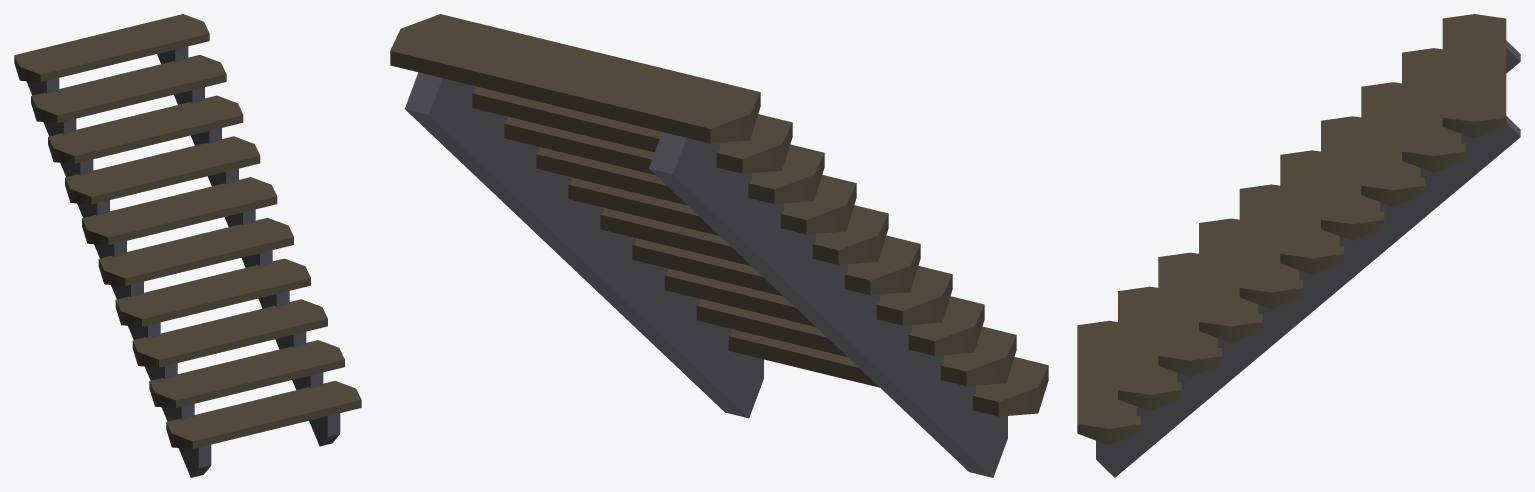
The model's file is LPSciFi_LongSingleStairs.fbx.
The picture shows the model from 3 angles, left to right: view 1: azimuth 30°, elevation 25°; view 2: azimuth 150°, elevation 25°; view 3: azimuth 270°, elevation 25°; orthographic projection. The views are drawn at different scales.
Visible parts, largest first — view 1: LongSingleStairs; view 2: LongSingleStairs; view 3: LongSingleStairs.
Part boxes in pixels (x1,y1,x2,y2): LongSingleStairs: [14, 14, 361, 477]; LongSingleStairs: [390, 14, 1048, 477]; LongSingleStairs: [1077, 14, 1520, 477].
Bounding box in the file's own units: 135 × 215 × 235.
